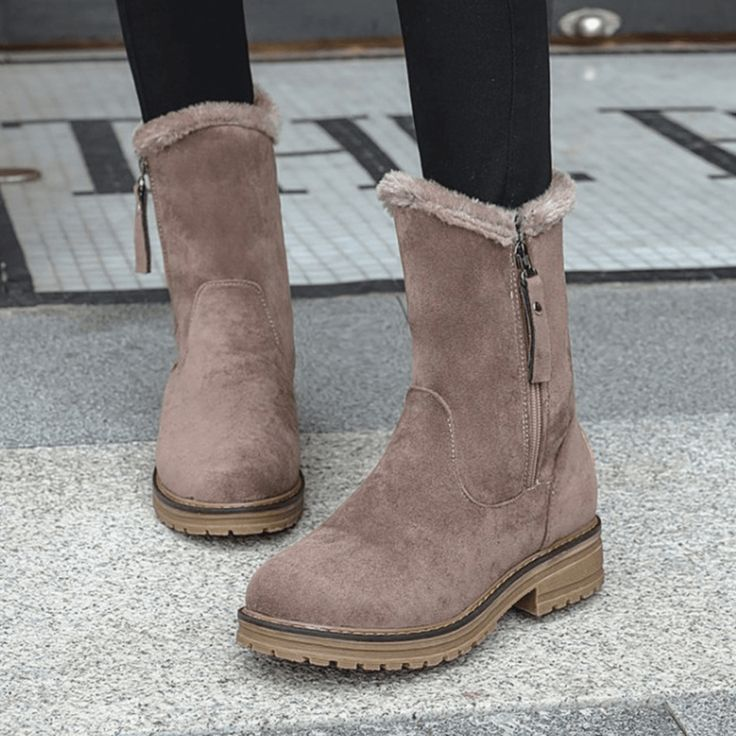gamuza: (129, 100, 598, 634)
